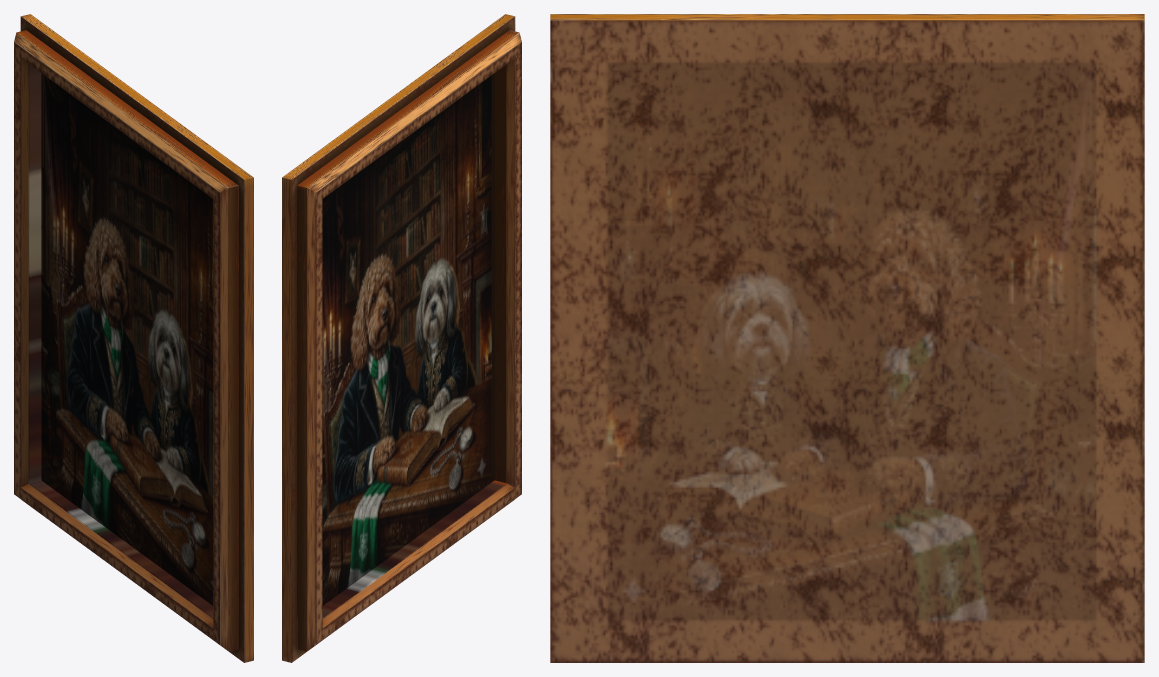
The model's file is photoframe_03.fbx.
The picture shows the model from 3 angles, left to right: view 1: azimuth 30°, elevation 25°; view 2: azimuth 150°, elevation 25°; view 3: azimuth 270°, elevation 25°; orthographic projection. The views are drawn at different scales.
Visible parts, largest first — view 1: photoframe_03; view 2: photoframe_03; view 3: photoframe_03.
Boxes of the visible parts, bbox=[...] form: photoframe_03: bbox=[14, 14, 253, 662]; photoframe_03: bbox=[282, 14, 521, 662]; photoframe_03: bbox=[550, 14, 1144, 662].
Size of the model in its own units: 10.23 by 187 by 157.
Materials: 1 (1 with a texture image).
